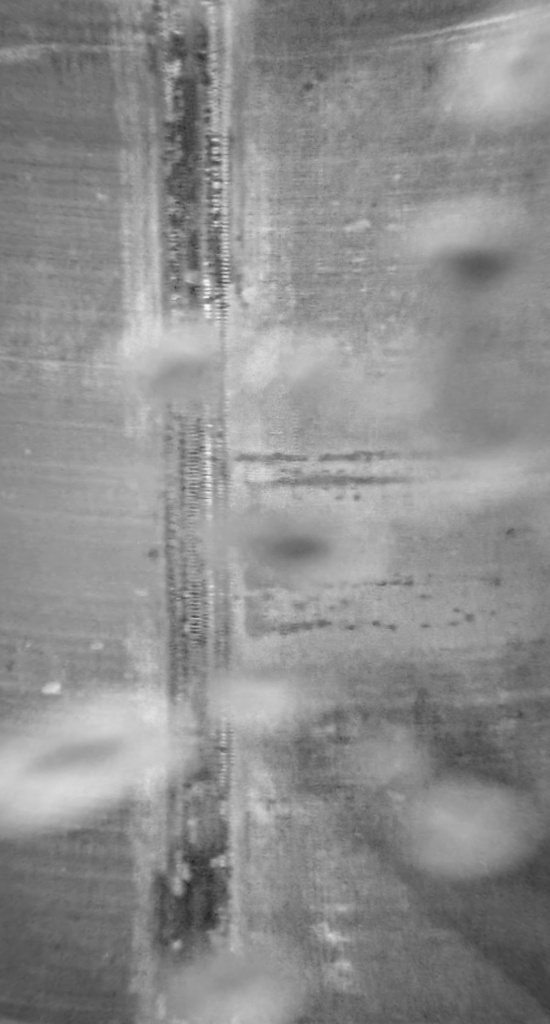splice: (135, 1, 232, 1023)
